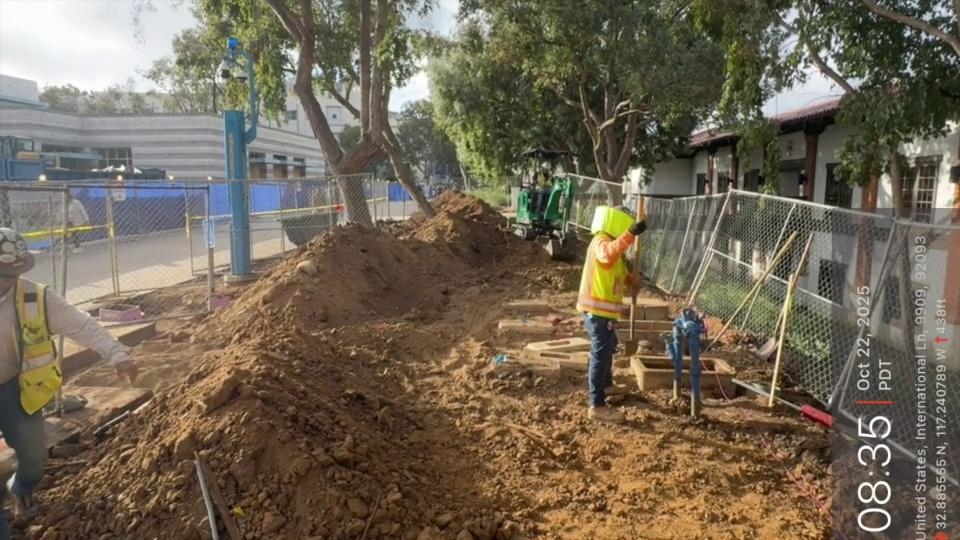Exacavator: (506, 145, 582, 260)
